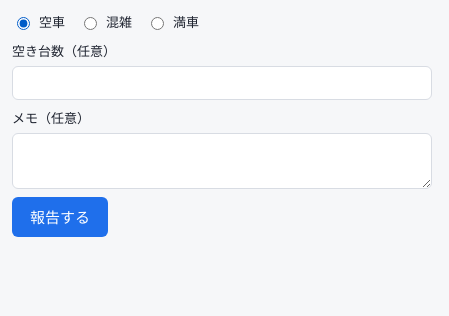
Test case: ReportForm › clears the optional fields after a successful report
Type "3" into the number field labelled "空き台数（任意）" at (222, 83), box left=12, top=66, right=432, bottom=100
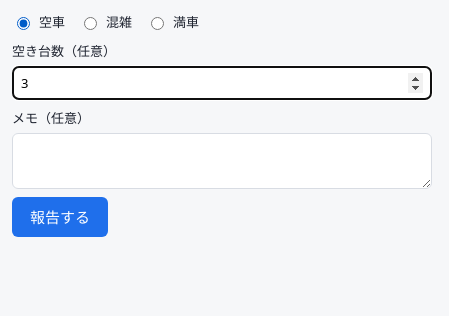
Click the button "報告する" at (60, 217), box left=12, top=197, right=108, bottom=237
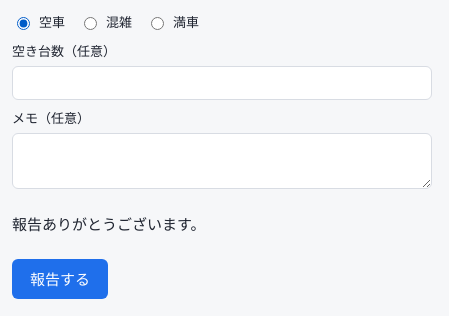
Check: the text box labelled "メモ（任意）" is empty, box left=12, top=133, right=432, bottom=189
Check: the message "報告ありがとうございます。" is shown, box left=12, top=214, right=206, bottom=234
Check: the number field labelled "空き台数（任意）" is not empty, box left=12, top=66, right=432, bottom=100
